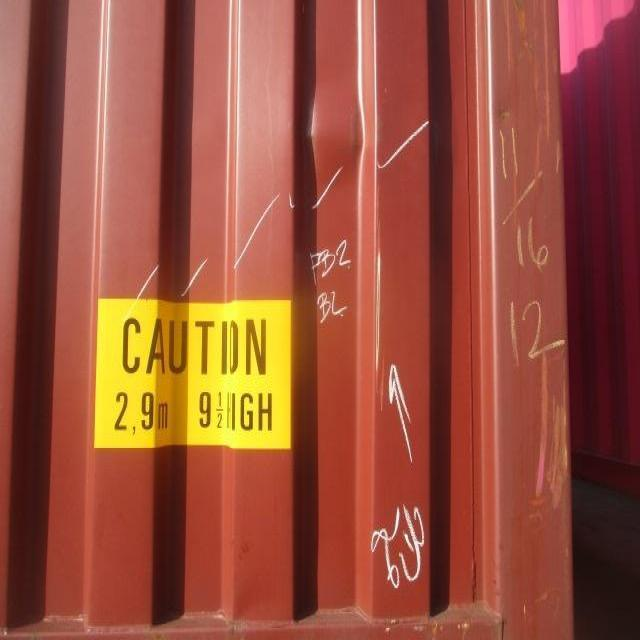Minor-Dent: (289, 56, 381, 224)
